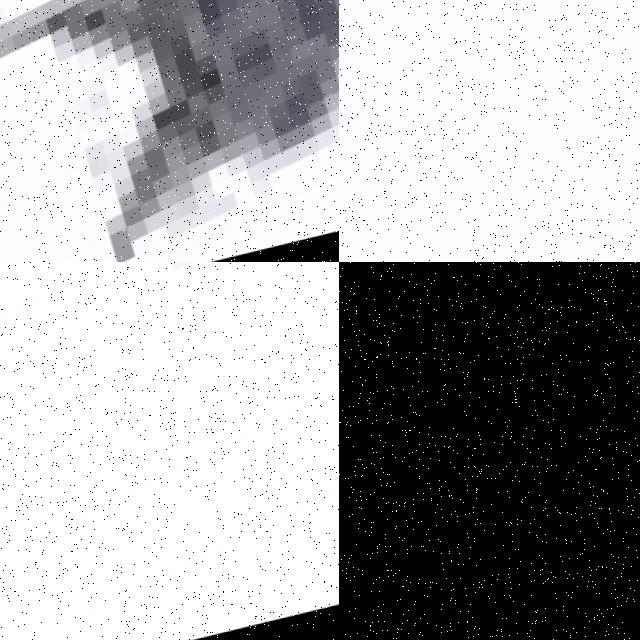0: (0, 0, 339, 262)
drone: (0, 262, 339, 640), (339, 262, 640, 640)
